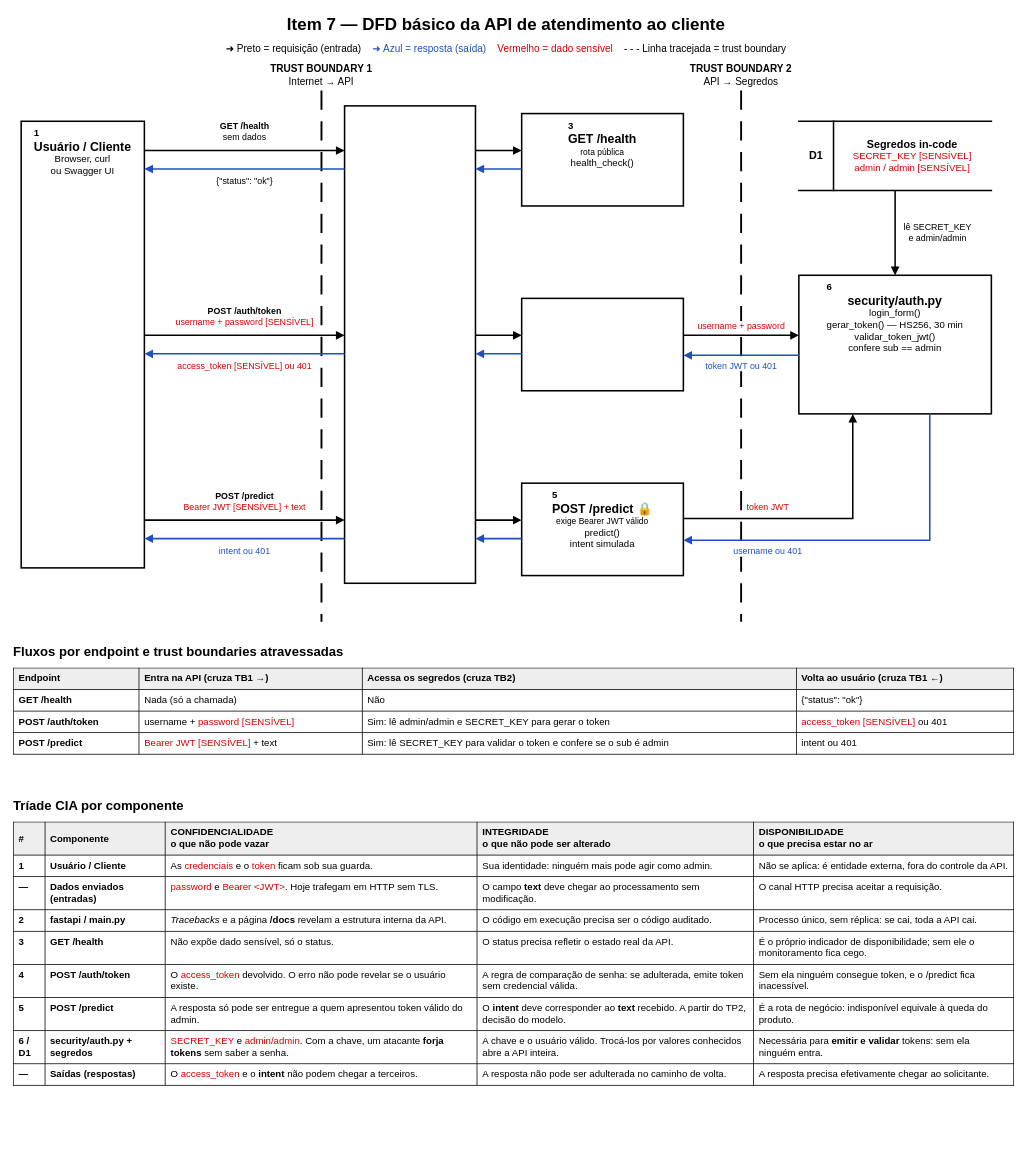
Some shapes in this 1027 by 1166 pixel diagram are drawn without their labels. Here are the shapes that lost their labels. From the top down, the centre of each, then its label:
At point 409,344: "2 fastapi / main.py Roteamento Validação Pydantic (erro 422) Handler de erro 401".
At point 602,344: "4 POST /auth/token rota pública login() + login_form()".
